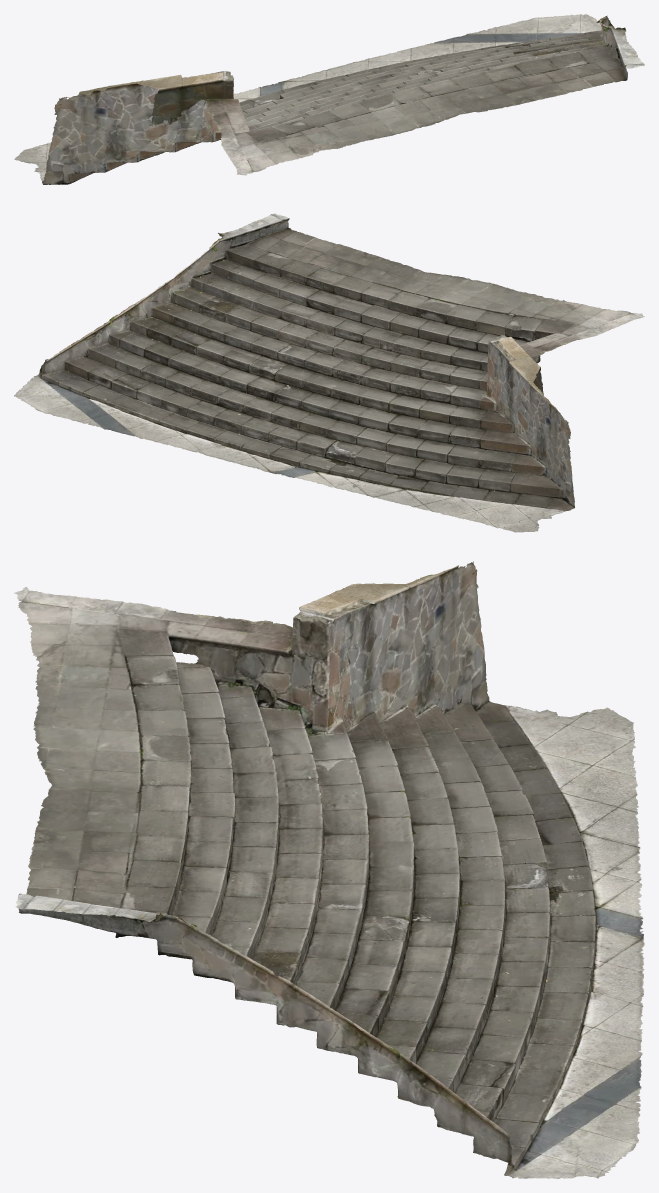
Rendered from stone_stairs_01.glb.
3 views of the same model, one above another, from view 1: azimuth 30°, elevation 25°; view 2: azimuth 150°, elevation 25°; view 3: azimuth 270°, elevation 25° (orthographic). The views are drawn at different scales.
Visible parts, largest first — view 1: Object_2; view 2: Object_2; view 3: Object_2.
Part boxes in pixels (left/top/right/bottom): Object_2: left=14, top=14, right=644, bottom=184; Object_2: left=14, top=213, right=644, bottom=532; Object_2: left=14, top=561, right=644, bottom=1178.
Bounding box in the file's own units: 39.85 × 7.69 × 21.74.
1 material, 1 textured.
